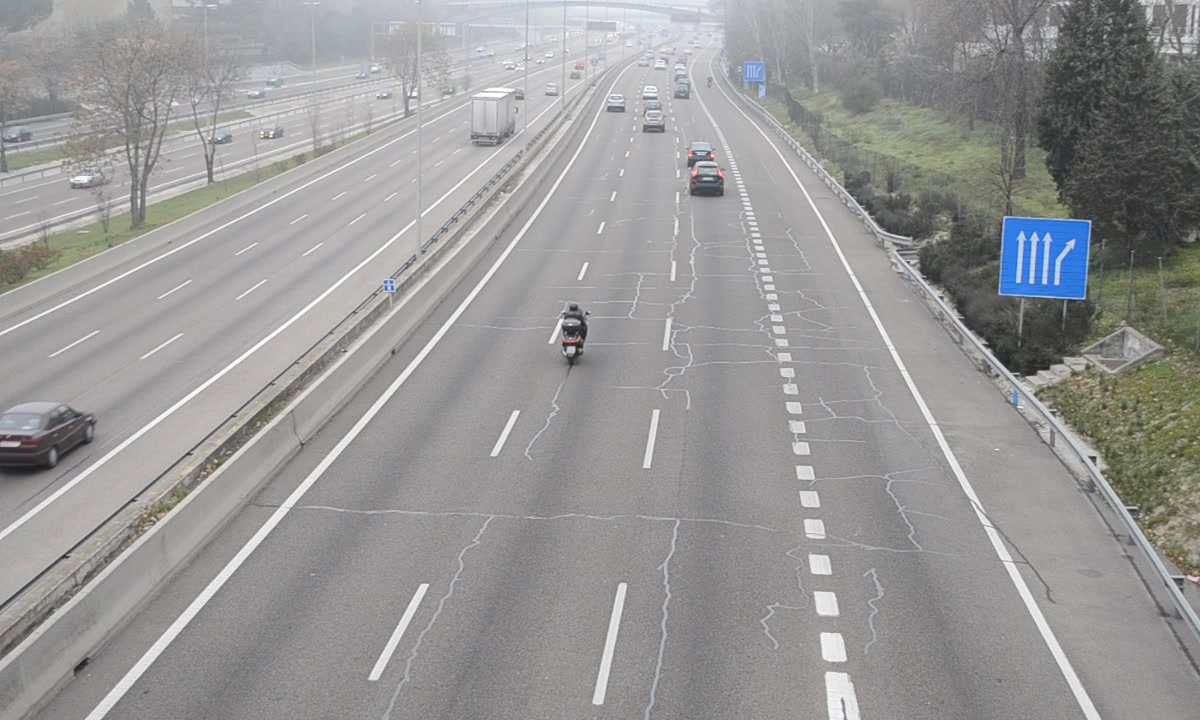car: (689, 162, 726, 195), (686, 141, 715, 164)
motorcycle: (558, 301, 590, 368)
